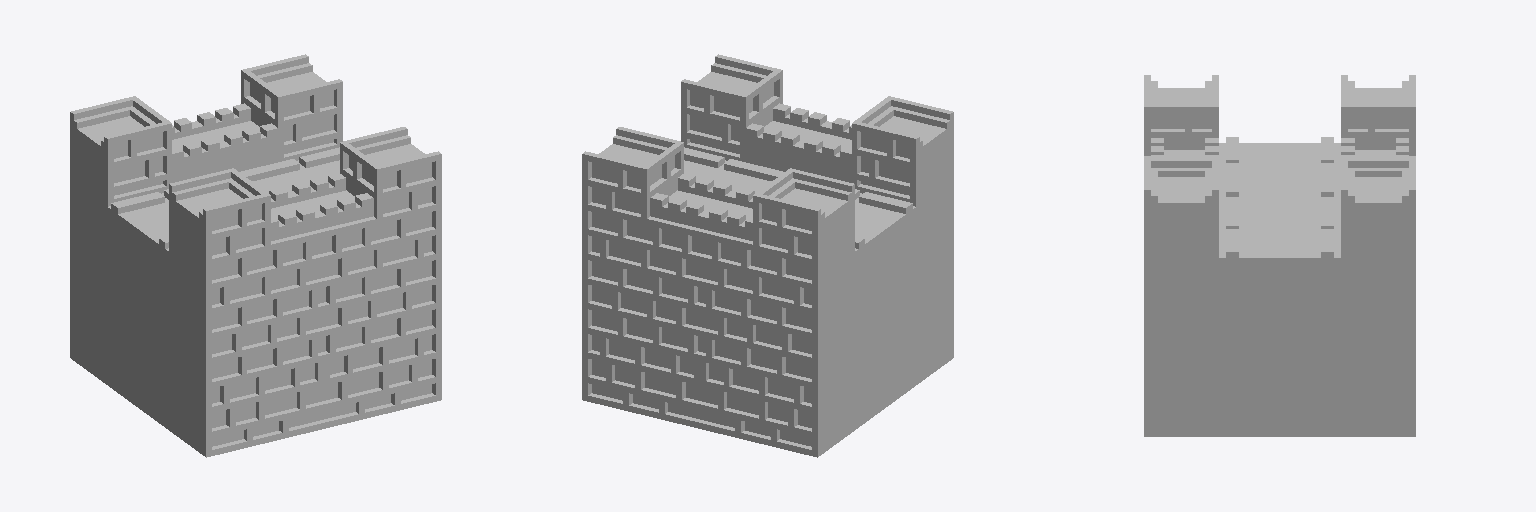
File: wall.obj
The picture shows the model from 3 angles: view 1: azimuth 30°, elevation 25°; view 2: azimuth 150°, elevation 25°; view 3: azimuth 270°, elevation 25°; orthographic projection.
Bounding box in the file's own units: 40 × 40 × 40.